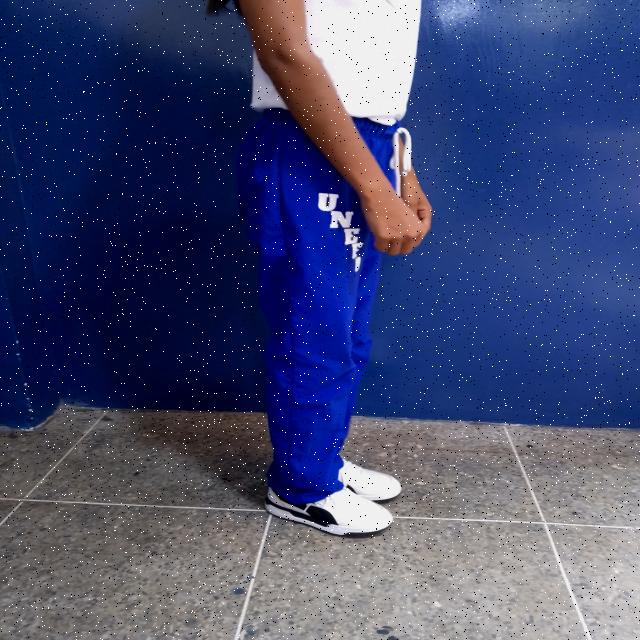uniforme_superior: (236, 106, 398, 507)
